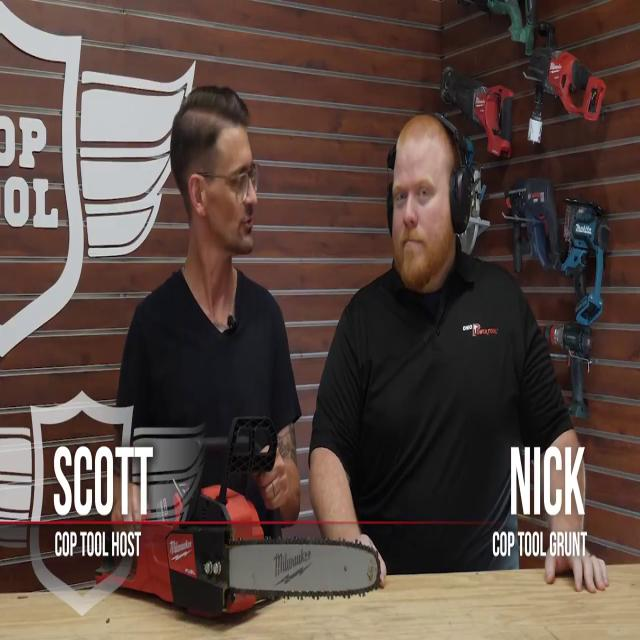earmuff: (453, 170, 471, 237)
glasses: (228, 166, 261, 201)
